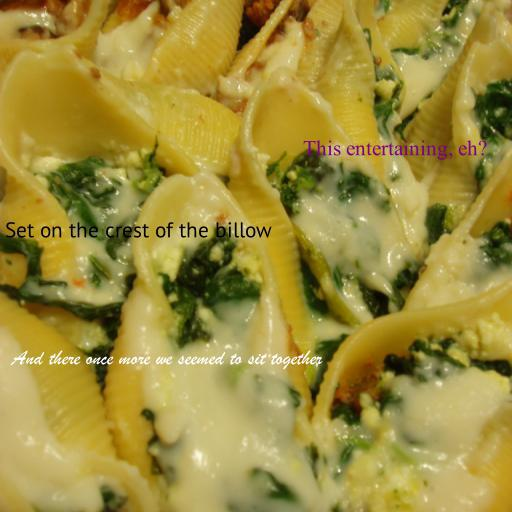Brush Script MT: (12, 350, 322, 370)
PT Sans: (4, 222, 272, 238)
Times New Roman: (303, 140, 487, 160)
